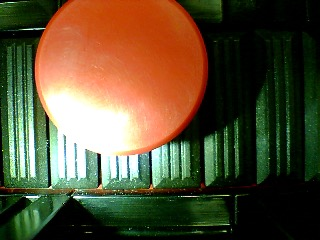BLANK: (34, 1, 209, 156)
